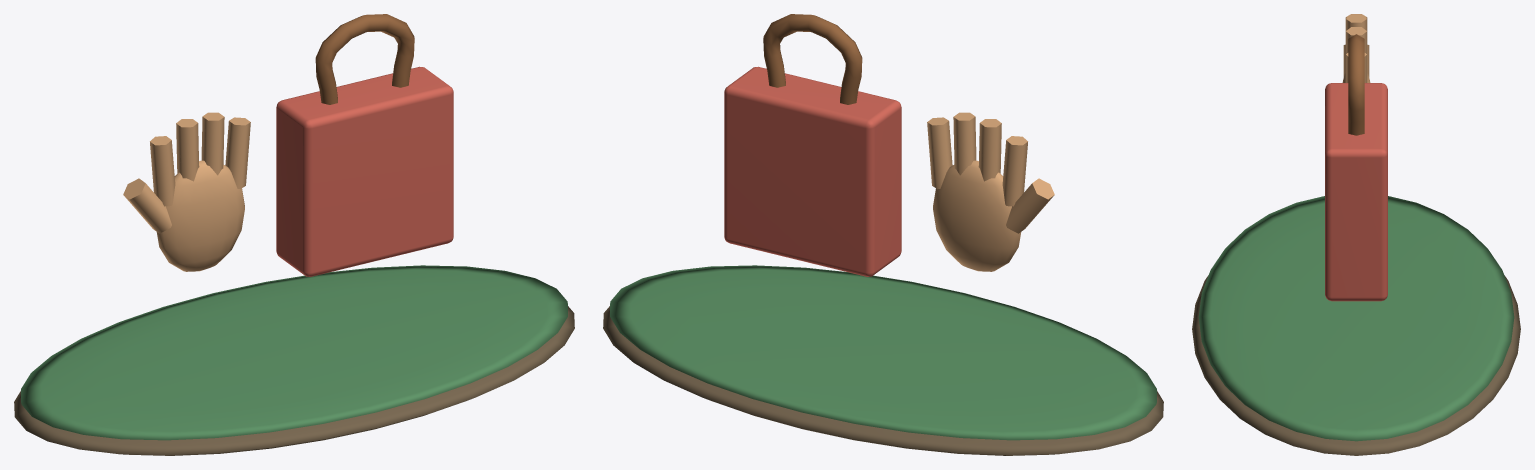
File: hug-package.glb
3 renders of one model, left to right at view 1: azimuth 30°, elevation 25°; view 2: azimuth 150°, elevation 25°; view 3: azimuth 270°, elevation 25°, orthographic. The views are drawn at different scales.
Visible parts, largest first — view 1: hug-package_surface_01, hug-package_surface_03, hug-package_surface_02, hug-package_surface_00, hug-package_surface_04; view 2: hug-package_surface_01, hug-package_surface_03, hug-package_surface_02, hug-package_surface_00, hug-package_surface_04; view 3: hug-package_surface_01, hug-package_surface_03, hug-package_surface_00, hug-package_surface_04, hug-package_surface_02.
Boxes of the visible parts, <box> form: hug-package_surface_01: <box>21,265,567,440</box>; hug-package_surface_03: <box>276,66,453,276</box>; hug-package_surface_02: <box>123,112,250,271</box>; hug-package_surface_00: <box>14,306,574,455</box>; hug-package_surface_04: <box>315,14,414,104</box>; hug-package_surface_01: <box>610,265,1156,440</box>; hug-package_surface_03: <box>724,66,901,276</box>; hug-package_surface_02: <box>927,112,1054,271</box>; hug-package_surface_00: <box>603,306,1163,455</box>; hug-package_surface_04: <box>763,14,862,104</box>; hug-package_surface_01: <box>1198,196,1514,441</box>; hug-package_surface_03: <box>1325,83,1387,301</box>; hug-package_surface_00: <box>1192,275,1520,455</box>; hug-package_surface_04: <box>1348,34,1364,135</box>; hug-package_surface_02: <box>1342,14,1370,82</box>.
Size of the model in its own units: 4.56 by 2.83 by 2.5.
